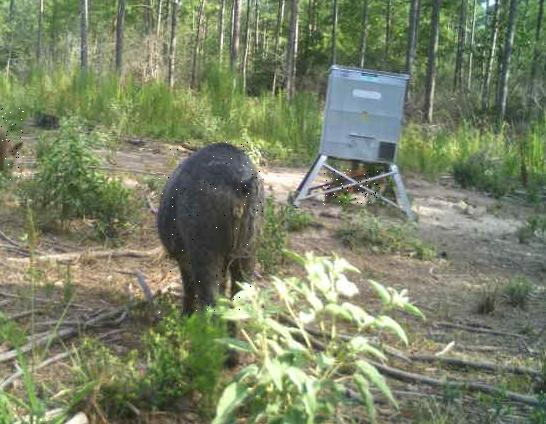Hog: (155, 143, 263, 314), (323, 169, 380, 206), (0, 108, 25, 182)
